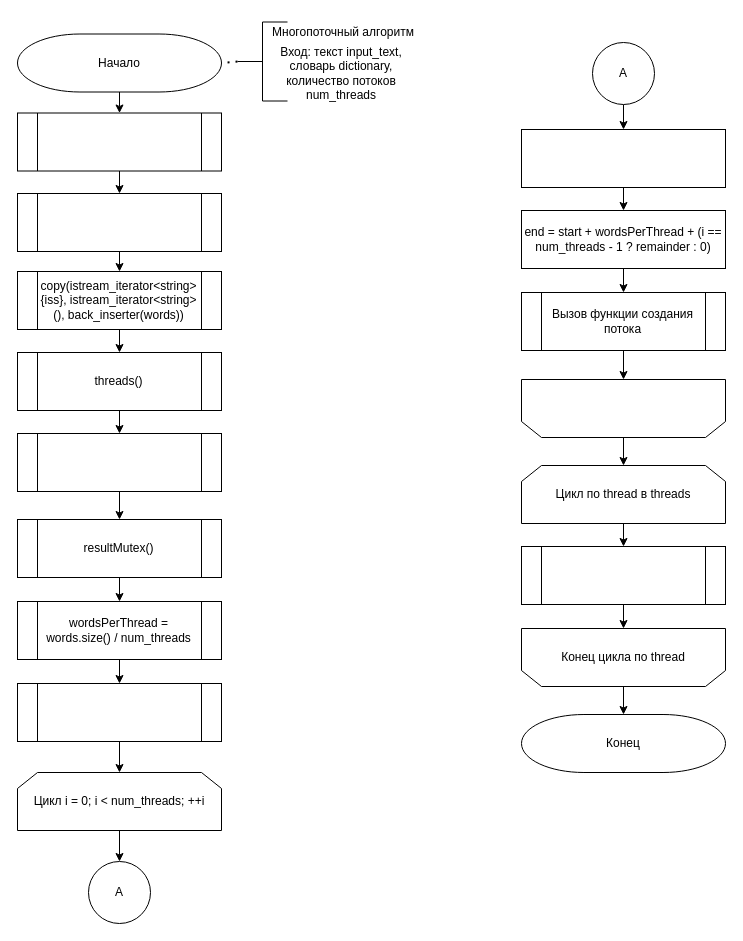
Image size: 743x941. Some labels were removed from this diagram. The shapes that lost their labels are listed below. From the top down, each one's centre as x and y in pixels, then its label:
At pixel 119 141: "words()".
At pixel 623 158: "start = i * wordsPerThread".
At pixel 119 222: "iss(temp_text)".
At pixel 623 408: "Конец цикла по i".
At pixel 119 462: "correctedWords()".
At pixel 623 575: "thread.join()".
At pixel 119 712: "remainder = words.size() % num_threads".
